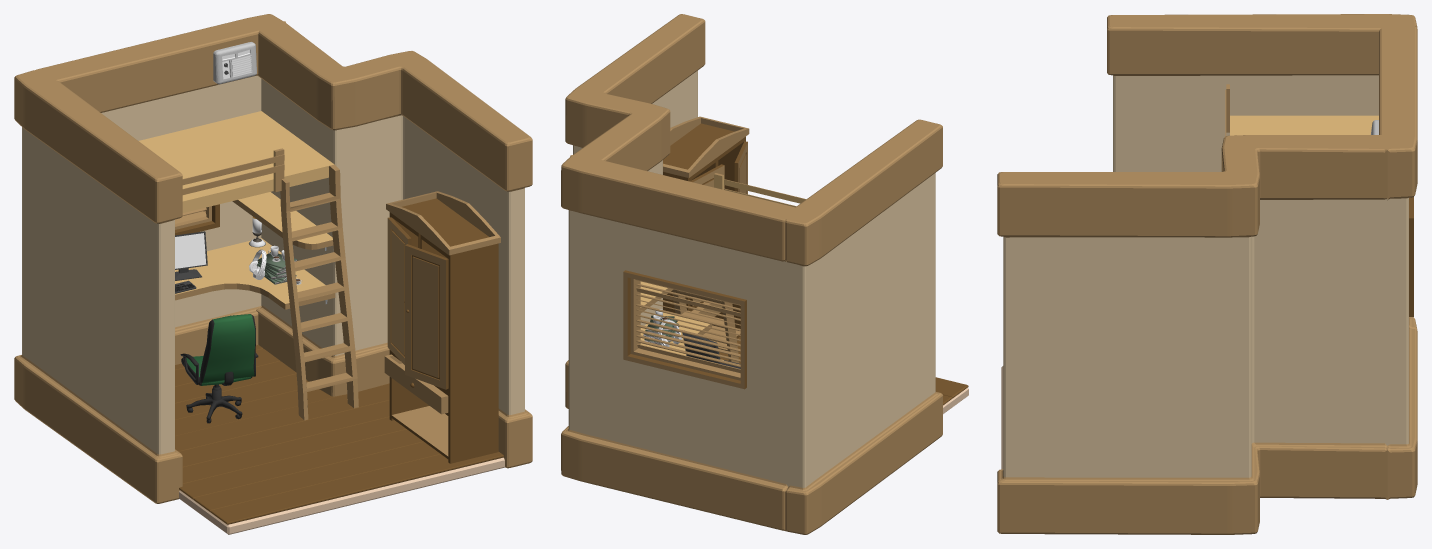
The model's file is workspace.glb.
3 views of the same model, side by side, from view 1: azimuth 30°, elevation 25°; view 2: azimuth 150°, elevation 25°; view 3: azimuth 270°, elevation 25° (orthographic). The views are drawn at different scales.
Visible parts, largest first — view 1: Walls, Planks, cAIBNET.002, Bed Frame, Laddder, chair_f, Table, Floor, Table Top, Aircon, Monitor, wINDOW (+1 smaller); view 2: Walls, wINDOW, cAIBNET.002, Laddder, Bed Frame, Table, Planks, Monitor; view 3: Walls, Bed Frame, wINDOW.
Boxes of the visible parts, bbox=[...] form: Walls: bbox=[14, 14, 532, 503]; Planks: bbox=[175, 345, 503, 524]; cAIBNET.002: bbox=[384, 191, 500, 463]; Bed Frame: bbox=[139, 111, 334, 212]; Laddder: bbox=[280, 164, 358, 420]; chair_f: bbox=[180, 314, 258, 423]; Table: bbox=[175, 238, 335, 309]; Floor: bbox=[179, 457, 504, 534]; Table Top: bbox=[232, 192, 333, 249]; Aircon: bbox=[213, 42, 256, 84]; Monitor: bbox=[175, 231, 207, 280]; wINDOW: bbox=[175, 204, 219, 235]; Walls: bbox=[561, 14, 942, 534]; wINDOW: bbox=[623, 270, 746, 389]; cAIBNET.002: bbox=[663, 116, 749, 340]; Laddder: bbox=[672, 289, 739, 363]; Bed Frame: bbox=[714, 173, 806, 207]; Table: bbox=[640, 312, 723, 360]; Planks: bbox=[719, 336, 968, 405]; Monitor: bbox=[682, 332, 720, 363]; Walls: bbox=[997, 14, 1417, 534]; Bed Frame: bbox=[1225, 84, 1378, 136]; wINDOW: bbox=[1409, 197, 1413, 316].
Size of the model in its own units: 2.87 by 2.7 by 2.94.
